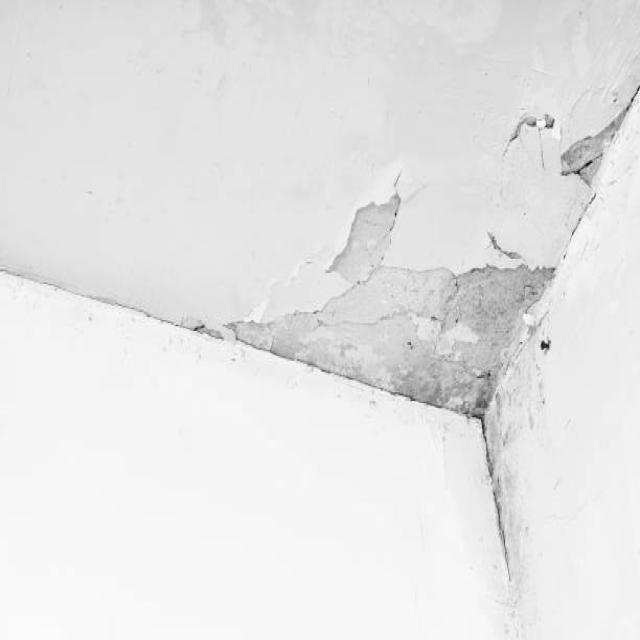peeling paint: (177, 66, 640, 460)
